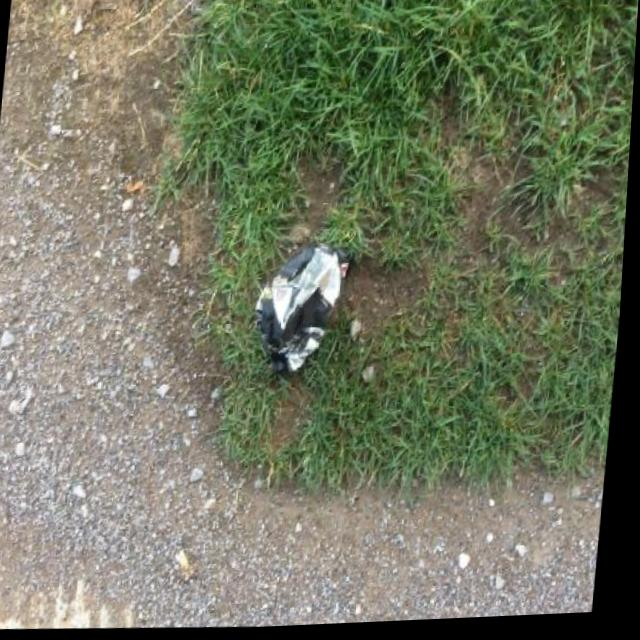plastic: (247, 237, 355, 373)
